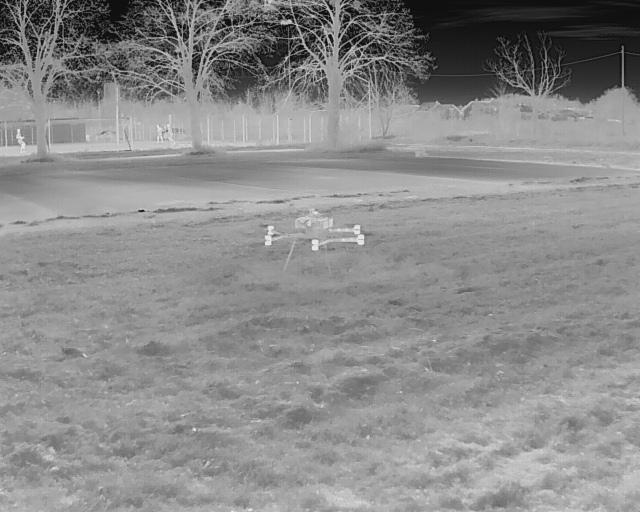drone: (238, 200, 388, 286)
